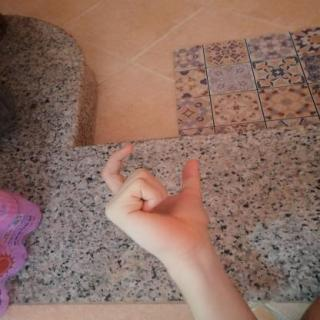NOON: (88, 134, 214, 260)
